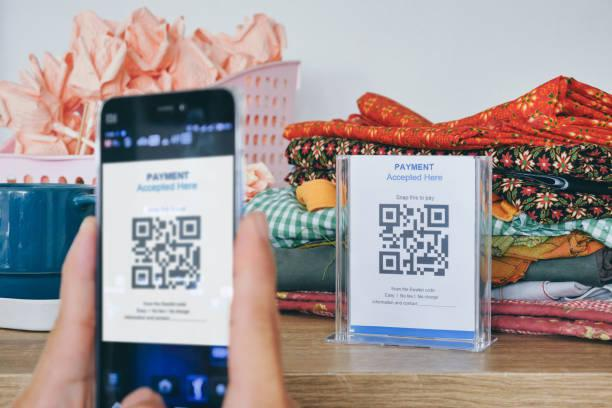Finder pattern: (174, 213, 205, 243), (128, 263, 157, 292), (376, 201, 403, 228), (424, 203, 452, 229), (127, 216, 155, 242), (376, 249, 403, 275)
